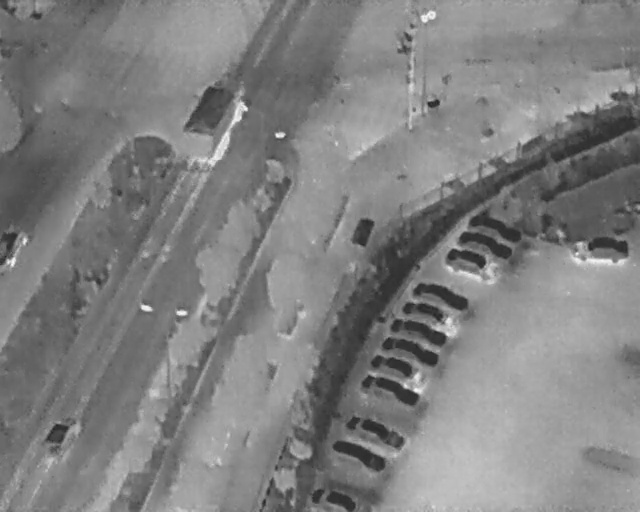Car: (342, 407, 411, 455), (357, 370, 427, 414), (377, 328, 445, 373), (440, 242, 506, 288), (325, 434, 392, 478), (368, 348, 432, 392), (387, 311, 453, 353), (396, 293, 461, 335), (453, 225, 516, 266), (37, 407, 83, 463), (410, 276, 473, 316), (464, 208, 527, 248), (569, 233, 631, 266), (0, 218, 30, 277), (309, 485, 358, 510)
OtherVehicle: (171, 72, 254, 173)
